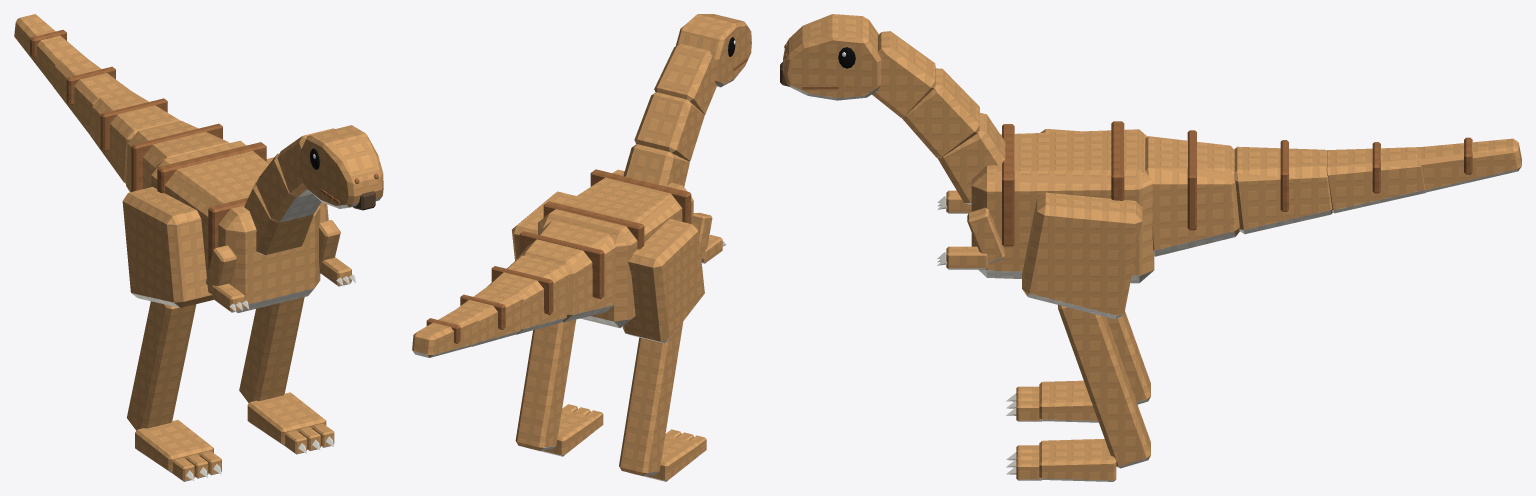
The model's file is 03_Gallimimus.glb.
3 renders of one model, left to right at view 1: azimuth 30°, elevation 25°; view 2: azimuth 150°, elevation 25°; view 3: azimuth 270°, elevation 25°, orthographic. The views are drawn at different scales.
Parts seen in each view (by area): view 1: 03_Gallimimus; view 2: 03_Gallimimus; view 3: 03_Gallimimus.
Boxes of the visible parts, left/top/right/bottom form: 03_Gallimimus: left=14, top=14, right=383, bottom=481; 03_Gallimimus: left=412, top=14, right=751, bottom=481; 03_Gallimimus: left=780, top=14, right=1521, bottom=481.
Bounding box in the file's own units: 2.3 × 5.24 × 8.44.
1 material, 1 textured.
